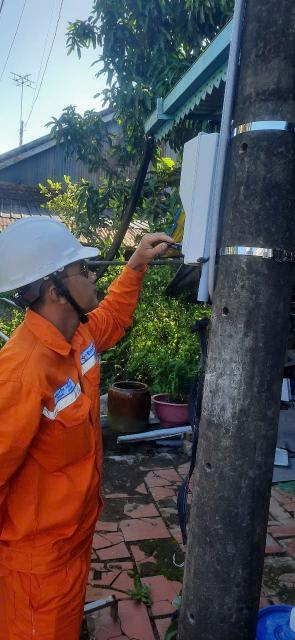helmet: (0, 201, 100, 296)
